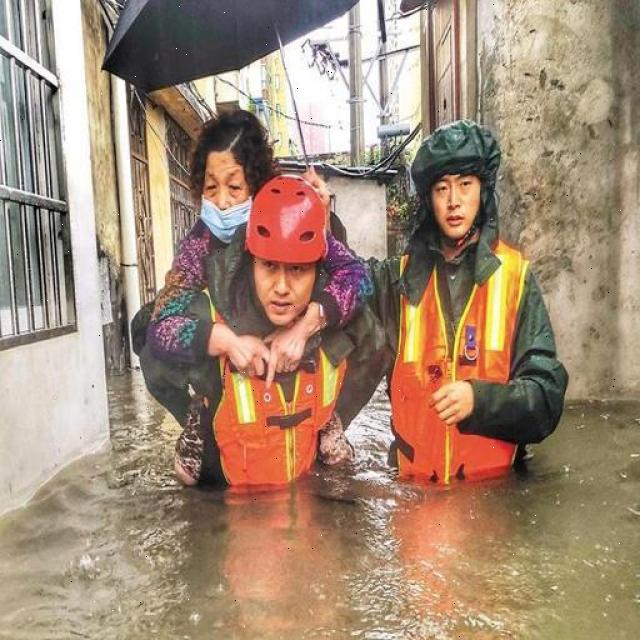rescuer: (151, 186, 377, 510), (366, 116, 556, 499)
